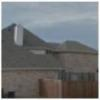chimneys: (15, 22, 24, 48)
